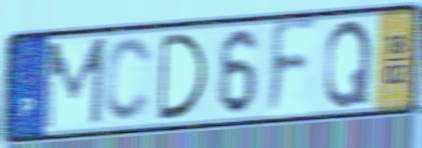6: (217, 25, 262, 118)
C: (101, 35, 156, 126)
D: (156, 31, 210, 123)
F: (264, 14, 321, 121)
M: (40, 34, 109, 134)
Q: (322, 18, 374, 111)
